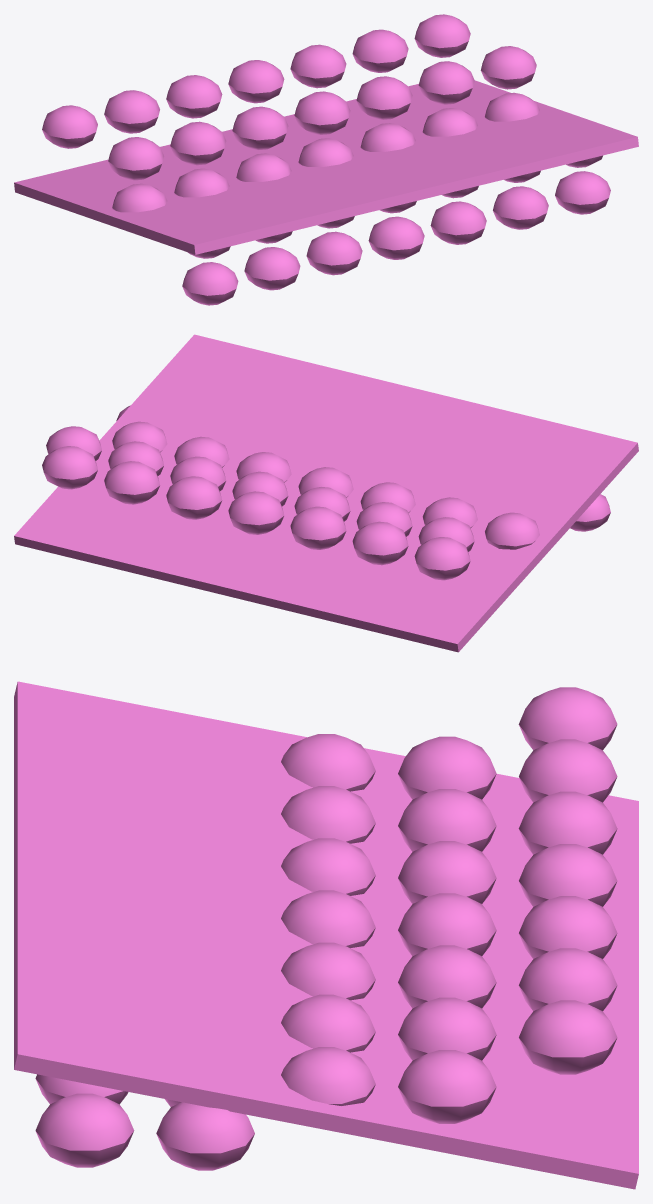
The model's file is Item_BubbleWrap.fbx.
3 views of the same model, one above another, from view 1: azimuth 30°, elevation 25°; view 2: azimuth 150°, elevation 25°; view 3: azimuth 270°, elevation 25° (orthographic). The views are drawn at different scales.
Parts seen in each view (by area): view 1: BubbleWrap; view 2: BubbleWrap; view 3: BubbleWrap.
Part boxes in pixels (left/top/right/bottom): BubbleWrap: left=14, top=14, right=638, bottom=305; BubbleWrap: left=14, top=334, right=638, bottom=652; BubbleWrap: left=14, top=681, right=638, bottom=1189.
Bounding box in the file's own units: 5.22 × 0.9742 × 3.54.
Materials: 1 (1 with a texture image).
